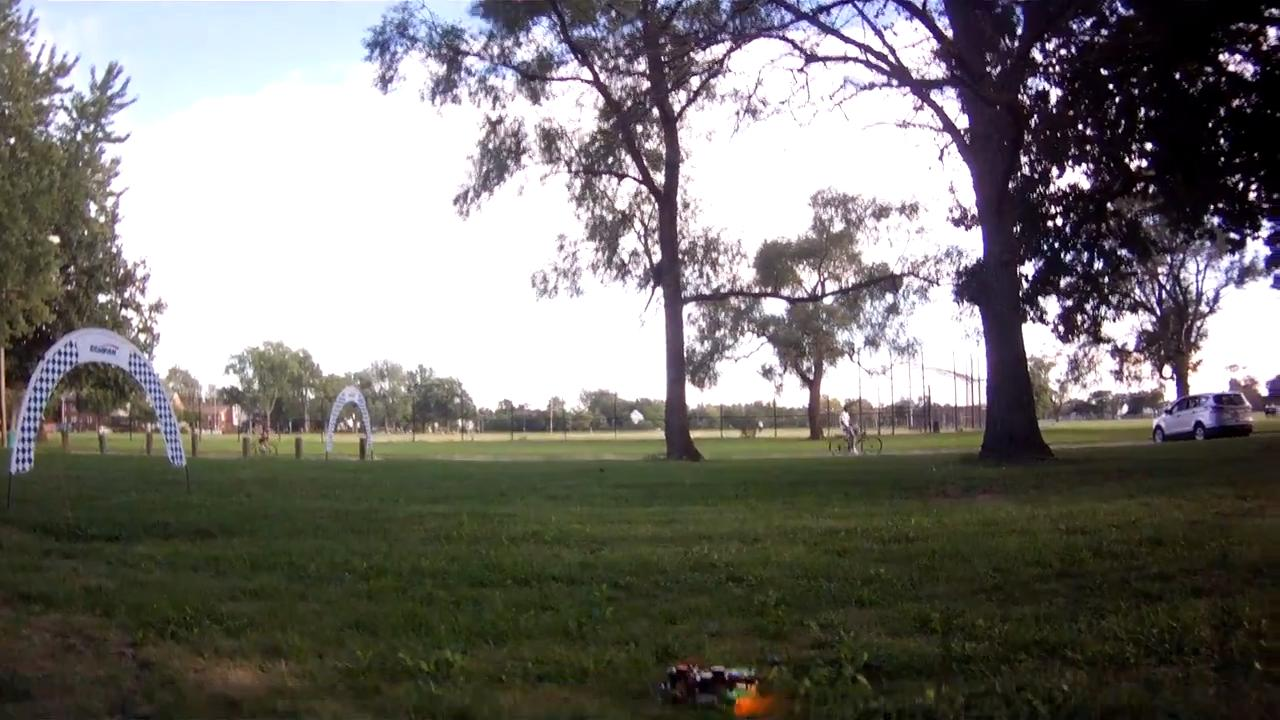gate: (10, 326, 187, 474)
